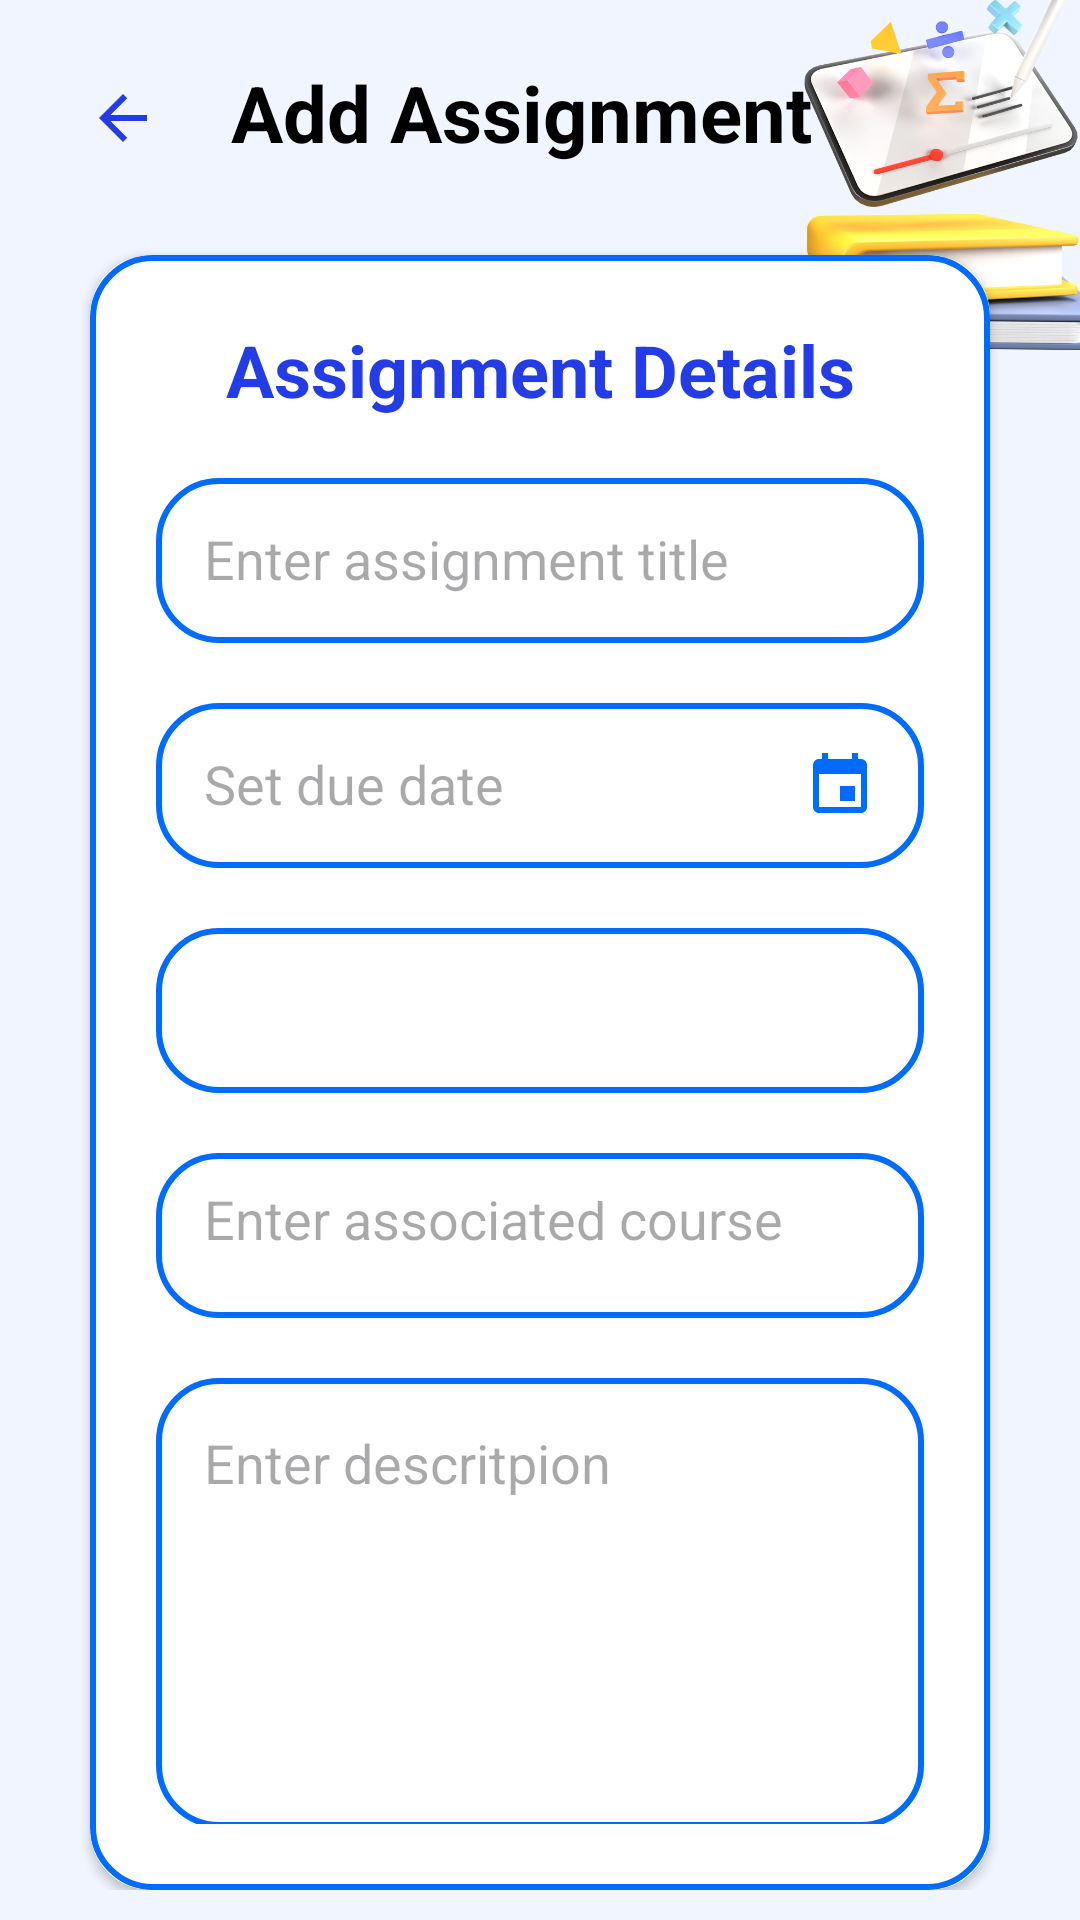

Icons on this 1080px x 1920px Android screen, each with the point to tap as (x,y):
arrow back: (123,118)
